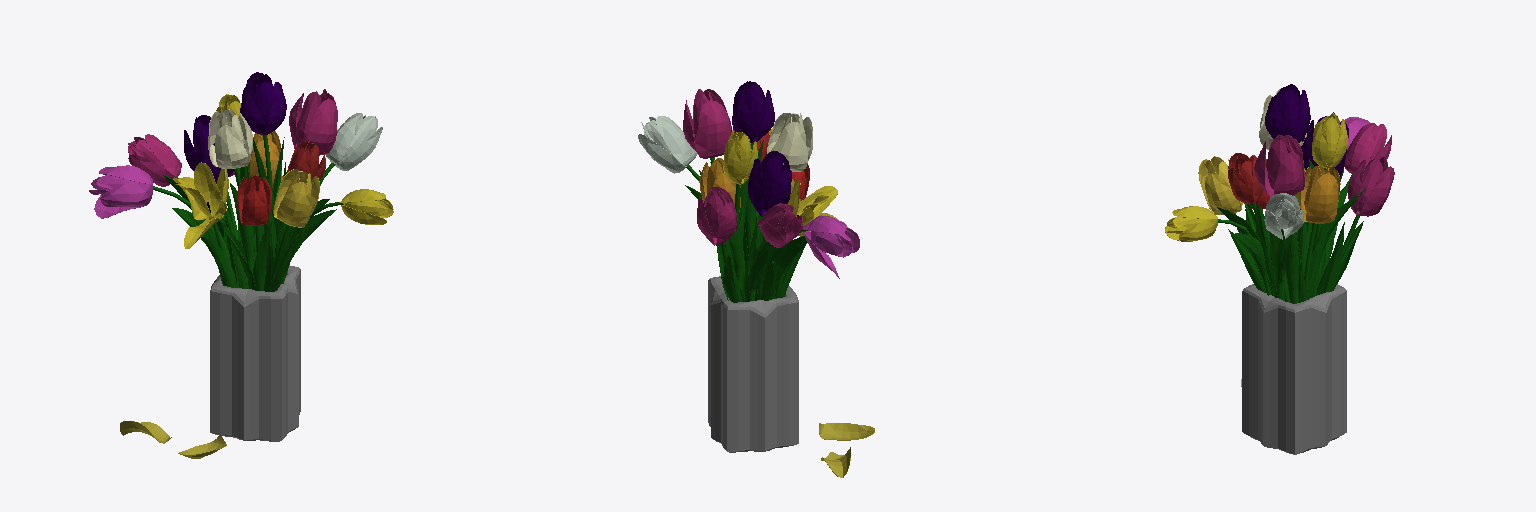
File: tulips.obj
The picture shows the model from 3 angles: view 1: azimuth 30°, elevation 25°; view 2: azimuth 150°, elevation 25°; view 3: azimuth 270°, elevation 25°; orthographic projection.
Parts seen in each view (by area): view 1: tulpaner_Plane.013, vas_Cube.001; view 2: tulpaner_Plane.013, vas_Cube.001; view 3: tulpaner_Plane.013, vas_Cube.001.
Boxes of the visible parts, box(x1,y1,x2,y2) form: tulpaner_Plane.013: box(89, 72, 393, 458); vas_Cube.001: box(210, 265, 300, 441); tulpaner_Plane.013: box(638, 81, 874, 477); vas_Cube.001: box(708, 276, 798, 452); tulpaner_Plane.013: box(1165, 84, 1394, 386); vas_Cube.001: box(1242, 284, 1346, 454).
Bounding box in the file's own units: 31.82 × 42.71 × 25.25.